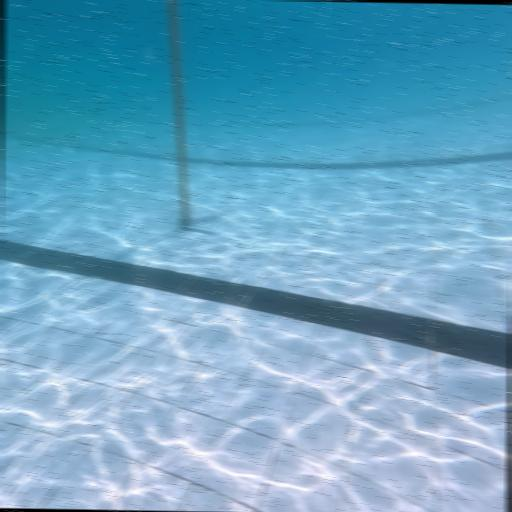pole_gate: (161, 0, 192, 226)
